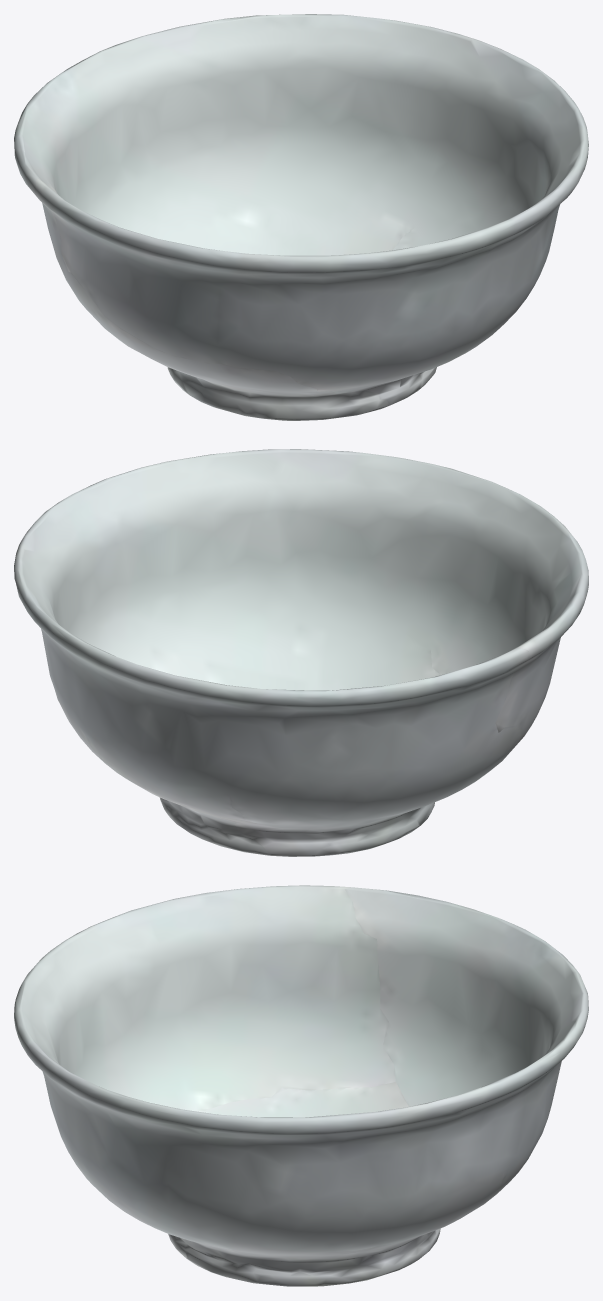
The model's file is Calphalon_Kitchen_Essentials_12_Cast_Iron_Fry_Pan_Black-high.glb.
3 views of the same model, one above another, from view 1: azimuth 30°, elevation 25°; view 2: azimuth 150°, elevation 25°; view 3: azimuth 270°, elevation 25° (orthographic).
Parts seen in each view (by area): view 1: Calphalon_Kitchen_Essentials_12_Cast_Iron_Fry_Pan_Black; view 2: Calphalon_Kitchen_Essentials_12_Cast_Iron_Fry_Pan_Black; view 3: Calphalon_Kitchen_Essentials_12_Cast_Iron_Fry_Pan_Black.
Part boxes in pixels (left/top/right/bottom): Calphalon_Kitchen_Essentials_12_Cast_Iron_Fry_Pan_Black: left=14, top=14, right=588, bottom=420; Calphalon_Kitchen_Essentials_12_Cast_Iron_Fry_Pan_Black: left=14, top=449, right=588, bottom=856; Calphalon_Kitchen_Essentials_12_Cast_Iron_Fry_Pan_Black: left=14, top=885, right=588, bottom=1286.
Size of the model in its own units: 0.3224 by 0.1462 by 0.3236.
1 material, 1 textured.
